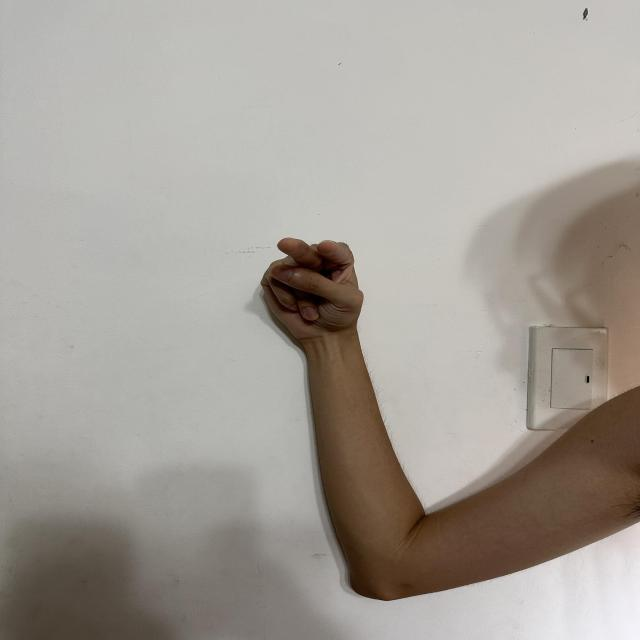N: (260, 235, 364, 335)
